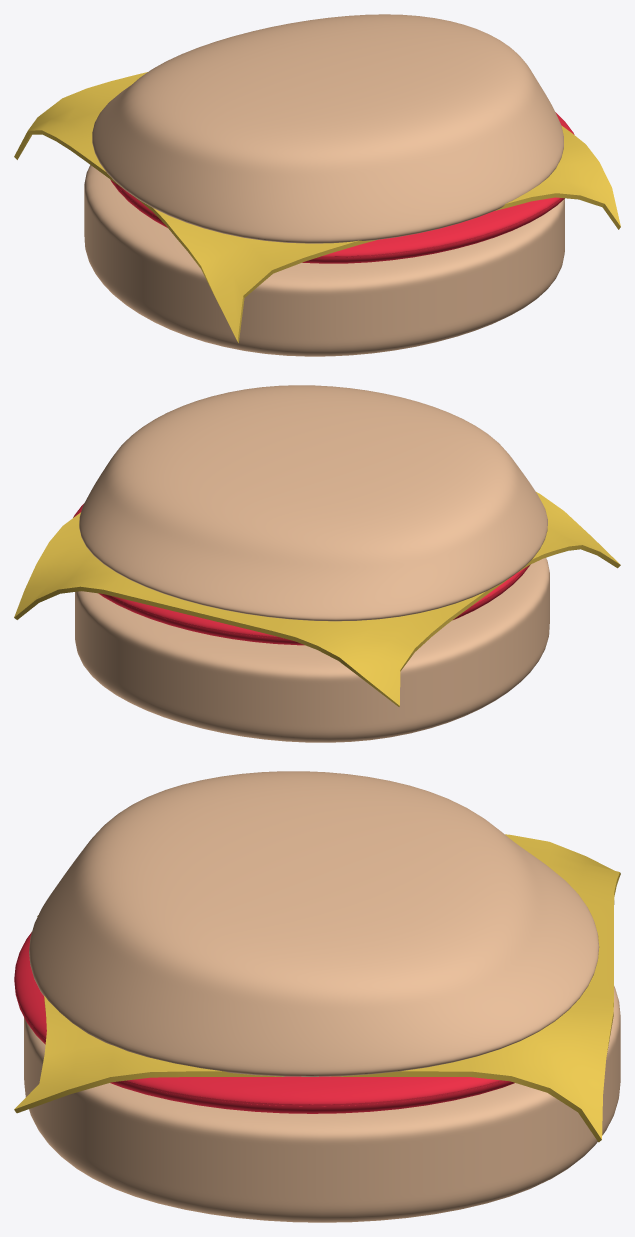
File: hamburger.glb
3 renders of one model, top to bottom at view 1: azimuth 30°, elevation 25°; view 2: azimuth 150°, elevation 25°; view 3: azimuth 270°, elevation 25°, orthographic. The views are drawn at different scales.
Parts seen in each view (by area): view 1: Cube.002, Cube, Plane.001, Cube.001; view 2: Cube.002, Cube, Plane.001, Cube.001; view 3: Cube.002, Cube, Plane.001, Cube.001.
Boxes of the visible parts, x1=… form: Cube.002: x1=92, y1=14, x2=563, y2=243; Cube: x1=84, y1=165, x2=564, y2=356; Plane.001: x1=14, y1=72, x2=620, y2=342; Cube.001: x1=110, y1=112, x2=574, y2=263; Cube.002: x1=79, y1=385, x2=547, y2=621; Cube: x1=75, y1=558, x2=549, y2=742; Plane.001: x1=14, y1=492, x2=620, y2=706; Cube.001: x1=73, y1=504, x2=530, y2=645; Cube.002: x1=29, y1=771, x2=599, y2=1076; Cube: x1=24, y1=986, x2=620, y2=1222; Plane.001: x1=14, y1=834, x2=620, y2=1142; Cube.001: x1=14, y1=932, x2=514, y2=1113.
Size of the model in its own units: 8.03 by 3.89 by 7.91.
